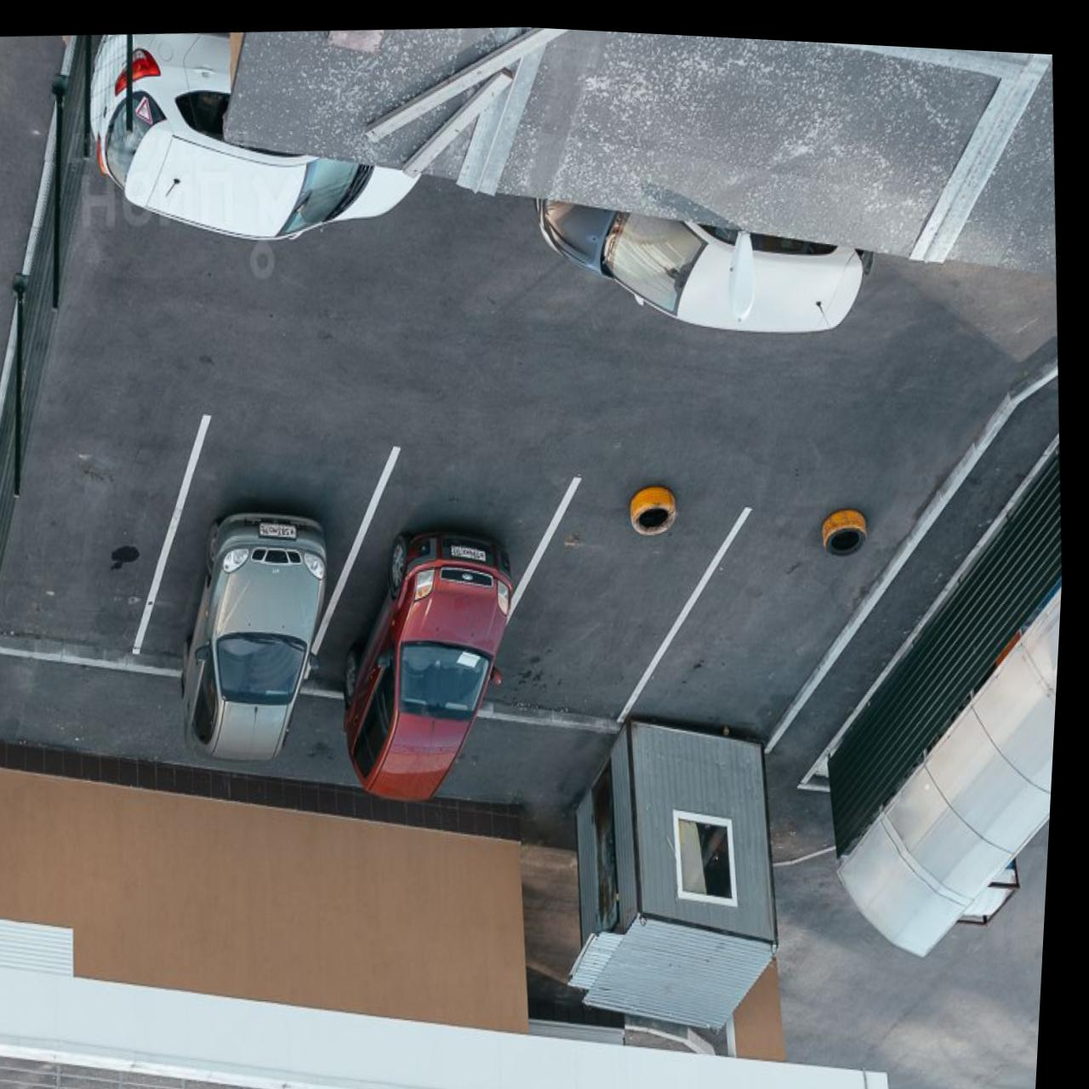cars: (172, 424, 360, 756), (339, 477, 541, 761), (511, 461, 725, 717), (690, 495, 877, 743)
empty: (5, 397, 186, 703)
